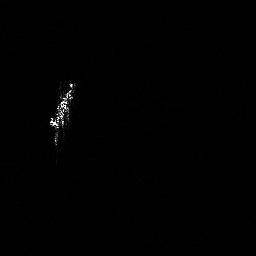ship: (47, 78, 80, 158)
